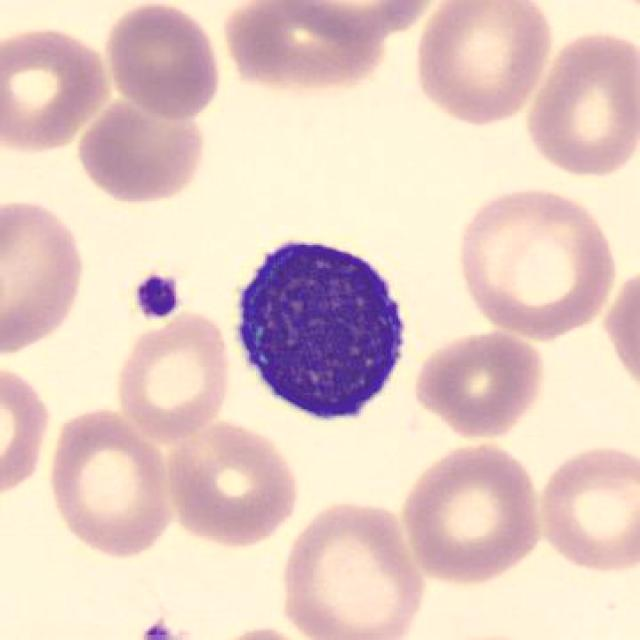Platelets: (130, 270, 187, 322), (131, 620, 188, 640)
RBC: (452, 183, 622, 337), (274, 497, 428, 638), (398, 441, 546, 587), (42, 407, 178, 561), (518, 25, 638, 183), (409, 2, 556, 130), (221, 2, 439, 88), (164, 420, 302, 548), (108, 308, 234, 442), (410, 326, 546, 441), (0, 21, 114, 157), (100, 2, 228, 123), (73, 95, 208, 206), (0, 192, 89, 360), (532, 441, 636, 578), (272, 0, 448, 48), (192, 622, 329, 640)
